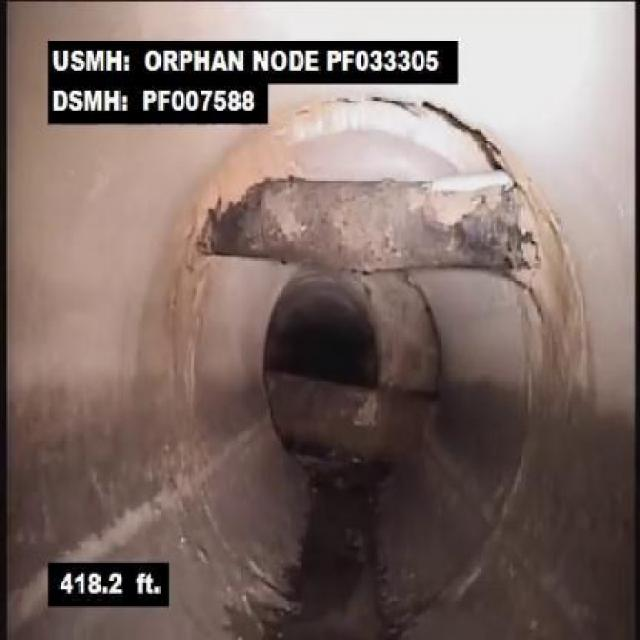Utility intrusion: (183, 163, 552, 277)
